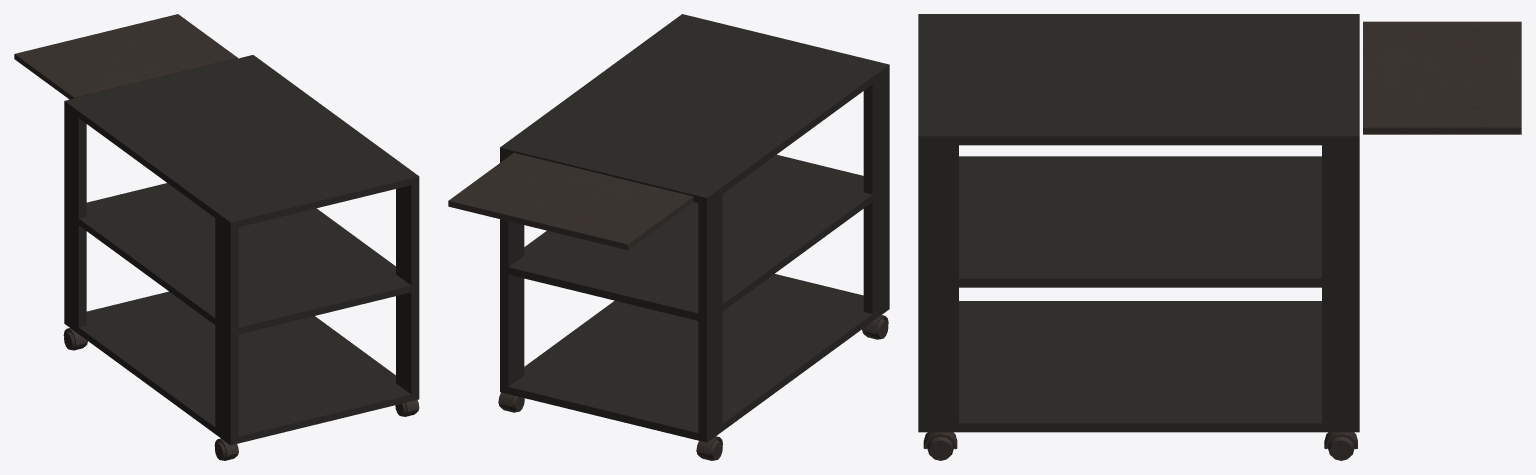
Rendered from GYM_Cart_1.fbx.
3 views of the same model, side by side, from view 1: azimuth 30°, elevation 25°; view 2: azimuth 150°, elevation 25°; view 3: azimuth 270°, elevation 25° (orthographic). The views are drawn at different scales.
Parts seen in each view (by area): view 1: GYM_Cart_1; view 2: GYM_Cart_1; view 3: GYM_Cart_1.
Boxes of the visible parts, bbox=[...] form: GYM_Cart_1: bbox=[14, 14, 419, 460]; GYM_Cart_1: bbox=[448, 14, 889, 460]; GYM_Cart_1: bbox=[918, 14, 1521, 460].
Size of the model in its own units: 1.2 by 1.43 by 2.4.
2 materials, 1 textured.
